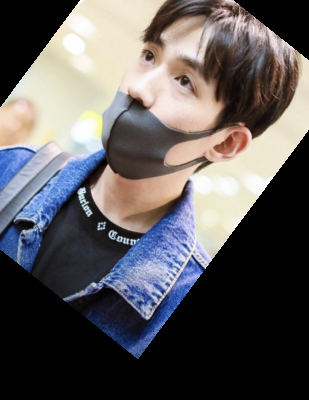mask_weared_incorrect: (85, 2, 306, 179)
